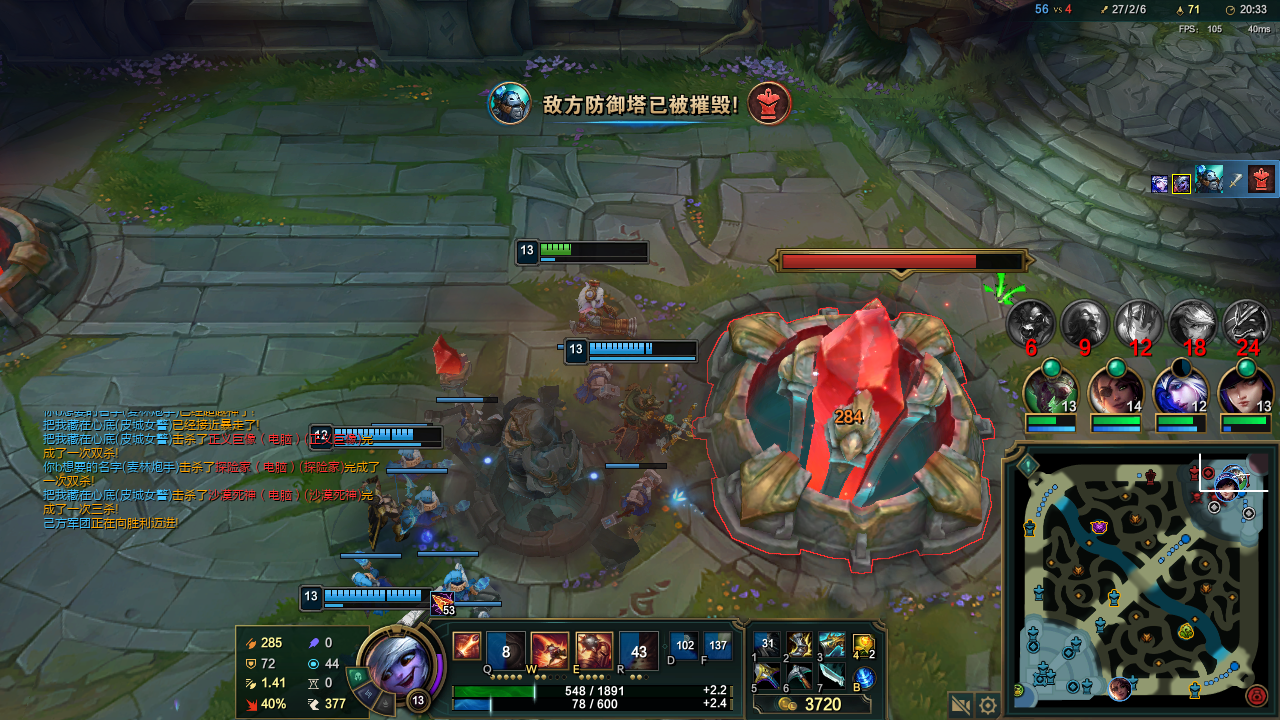DFDSJ: (706, 292, 998, 545)
WFXB: (401, 471, 476, 532), (613, 469, 669, 525), (390, 438, 453, 480), (434, 563, 497, 602), (348, 545, 384, 588)
